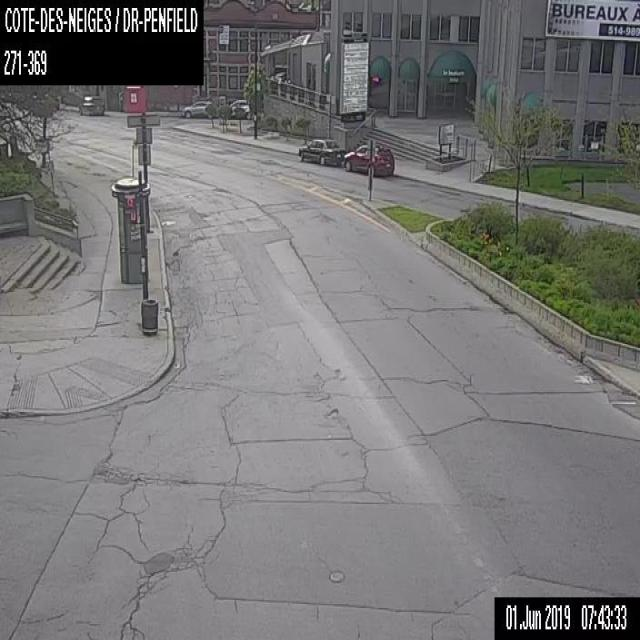vehicle: (342, 142, 393, 176), (298, 137, 345, 164), (78, 94, 105, 114), (183, 99, 213, 117), (228, 97, 249, 119)
